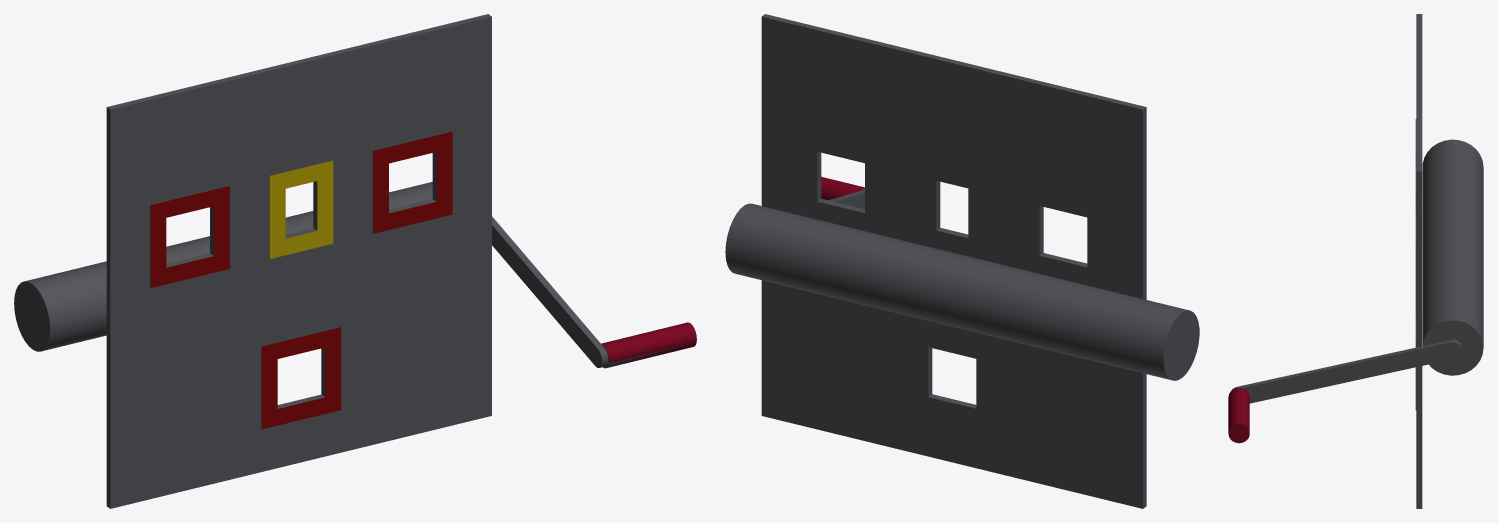
File: jednorekiBandyta.fbx
3 views of the same model, side by side, from view 1: azimuth 30°, elevation 25°; view 2: azimuth 150°, elevation 25°; view 3: azimuth 270°, elevation 25° (orthographic). The views are drawn at different scales.
Visible parts, largest first — view 1: Bryła1, Bryła2, Bryła3; view 2: Bryła1, Bryła2, Bryła3; view 3: Bryła2, Bryła3, Bryła1.
Part boxes in pixels (x1,y1,x2,y2): Bryła1: [106, 14, 491, 508]; Bryła2: [14, 182, 432, 351]; Bryła3: [492, 216, 696, 368]; Bryła1: [761, 14, 1146, 508]; Bryła2: [725, 203, 1199, 380]; Bryła3: [821, 177, 864, 209]; Bryła2: [1422, 139, 1483, 375]; Bryła3: [1228, 339, 1461, 443]; Bryła1: [1415, 14, 1422, 508].
Bounding box in the file's own units: 85 × 60.96 × 41.75.
